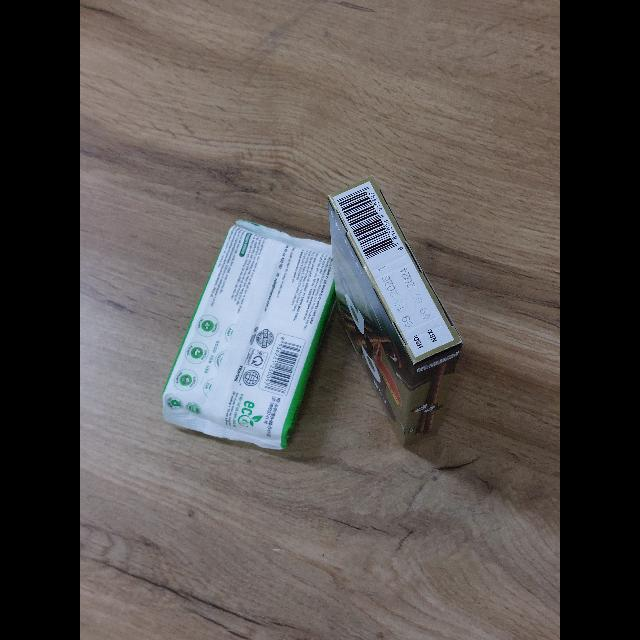banh_toppo_socola: (328, 177, 462, 444)
khan_giay: (163, 221, 334, 449)
